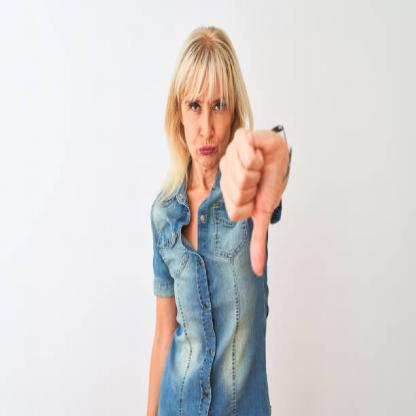thumb_down: (216, 122, 288, 280)
